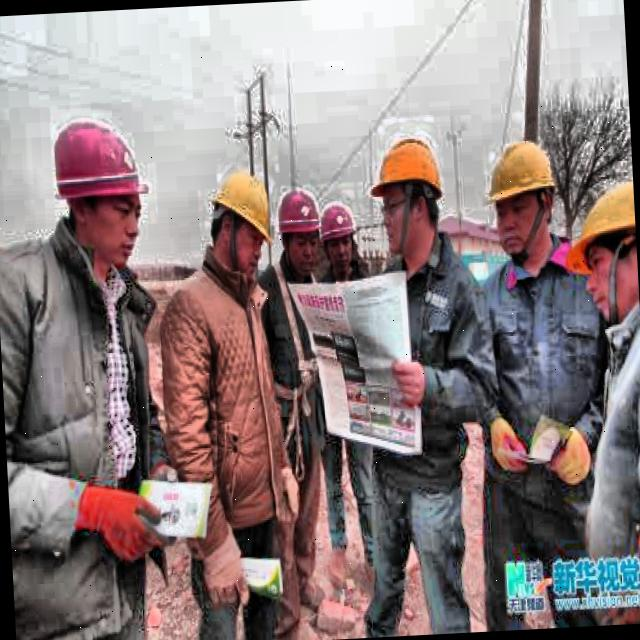helmet: (49, 109, 153, 273), (363, 126, 452, 272), (479, 128, 563, 262), (568, 179, 638, 321), (204, 158, 278, 284), (274, 180, 326, 282), (319, 198, 362, 275)
